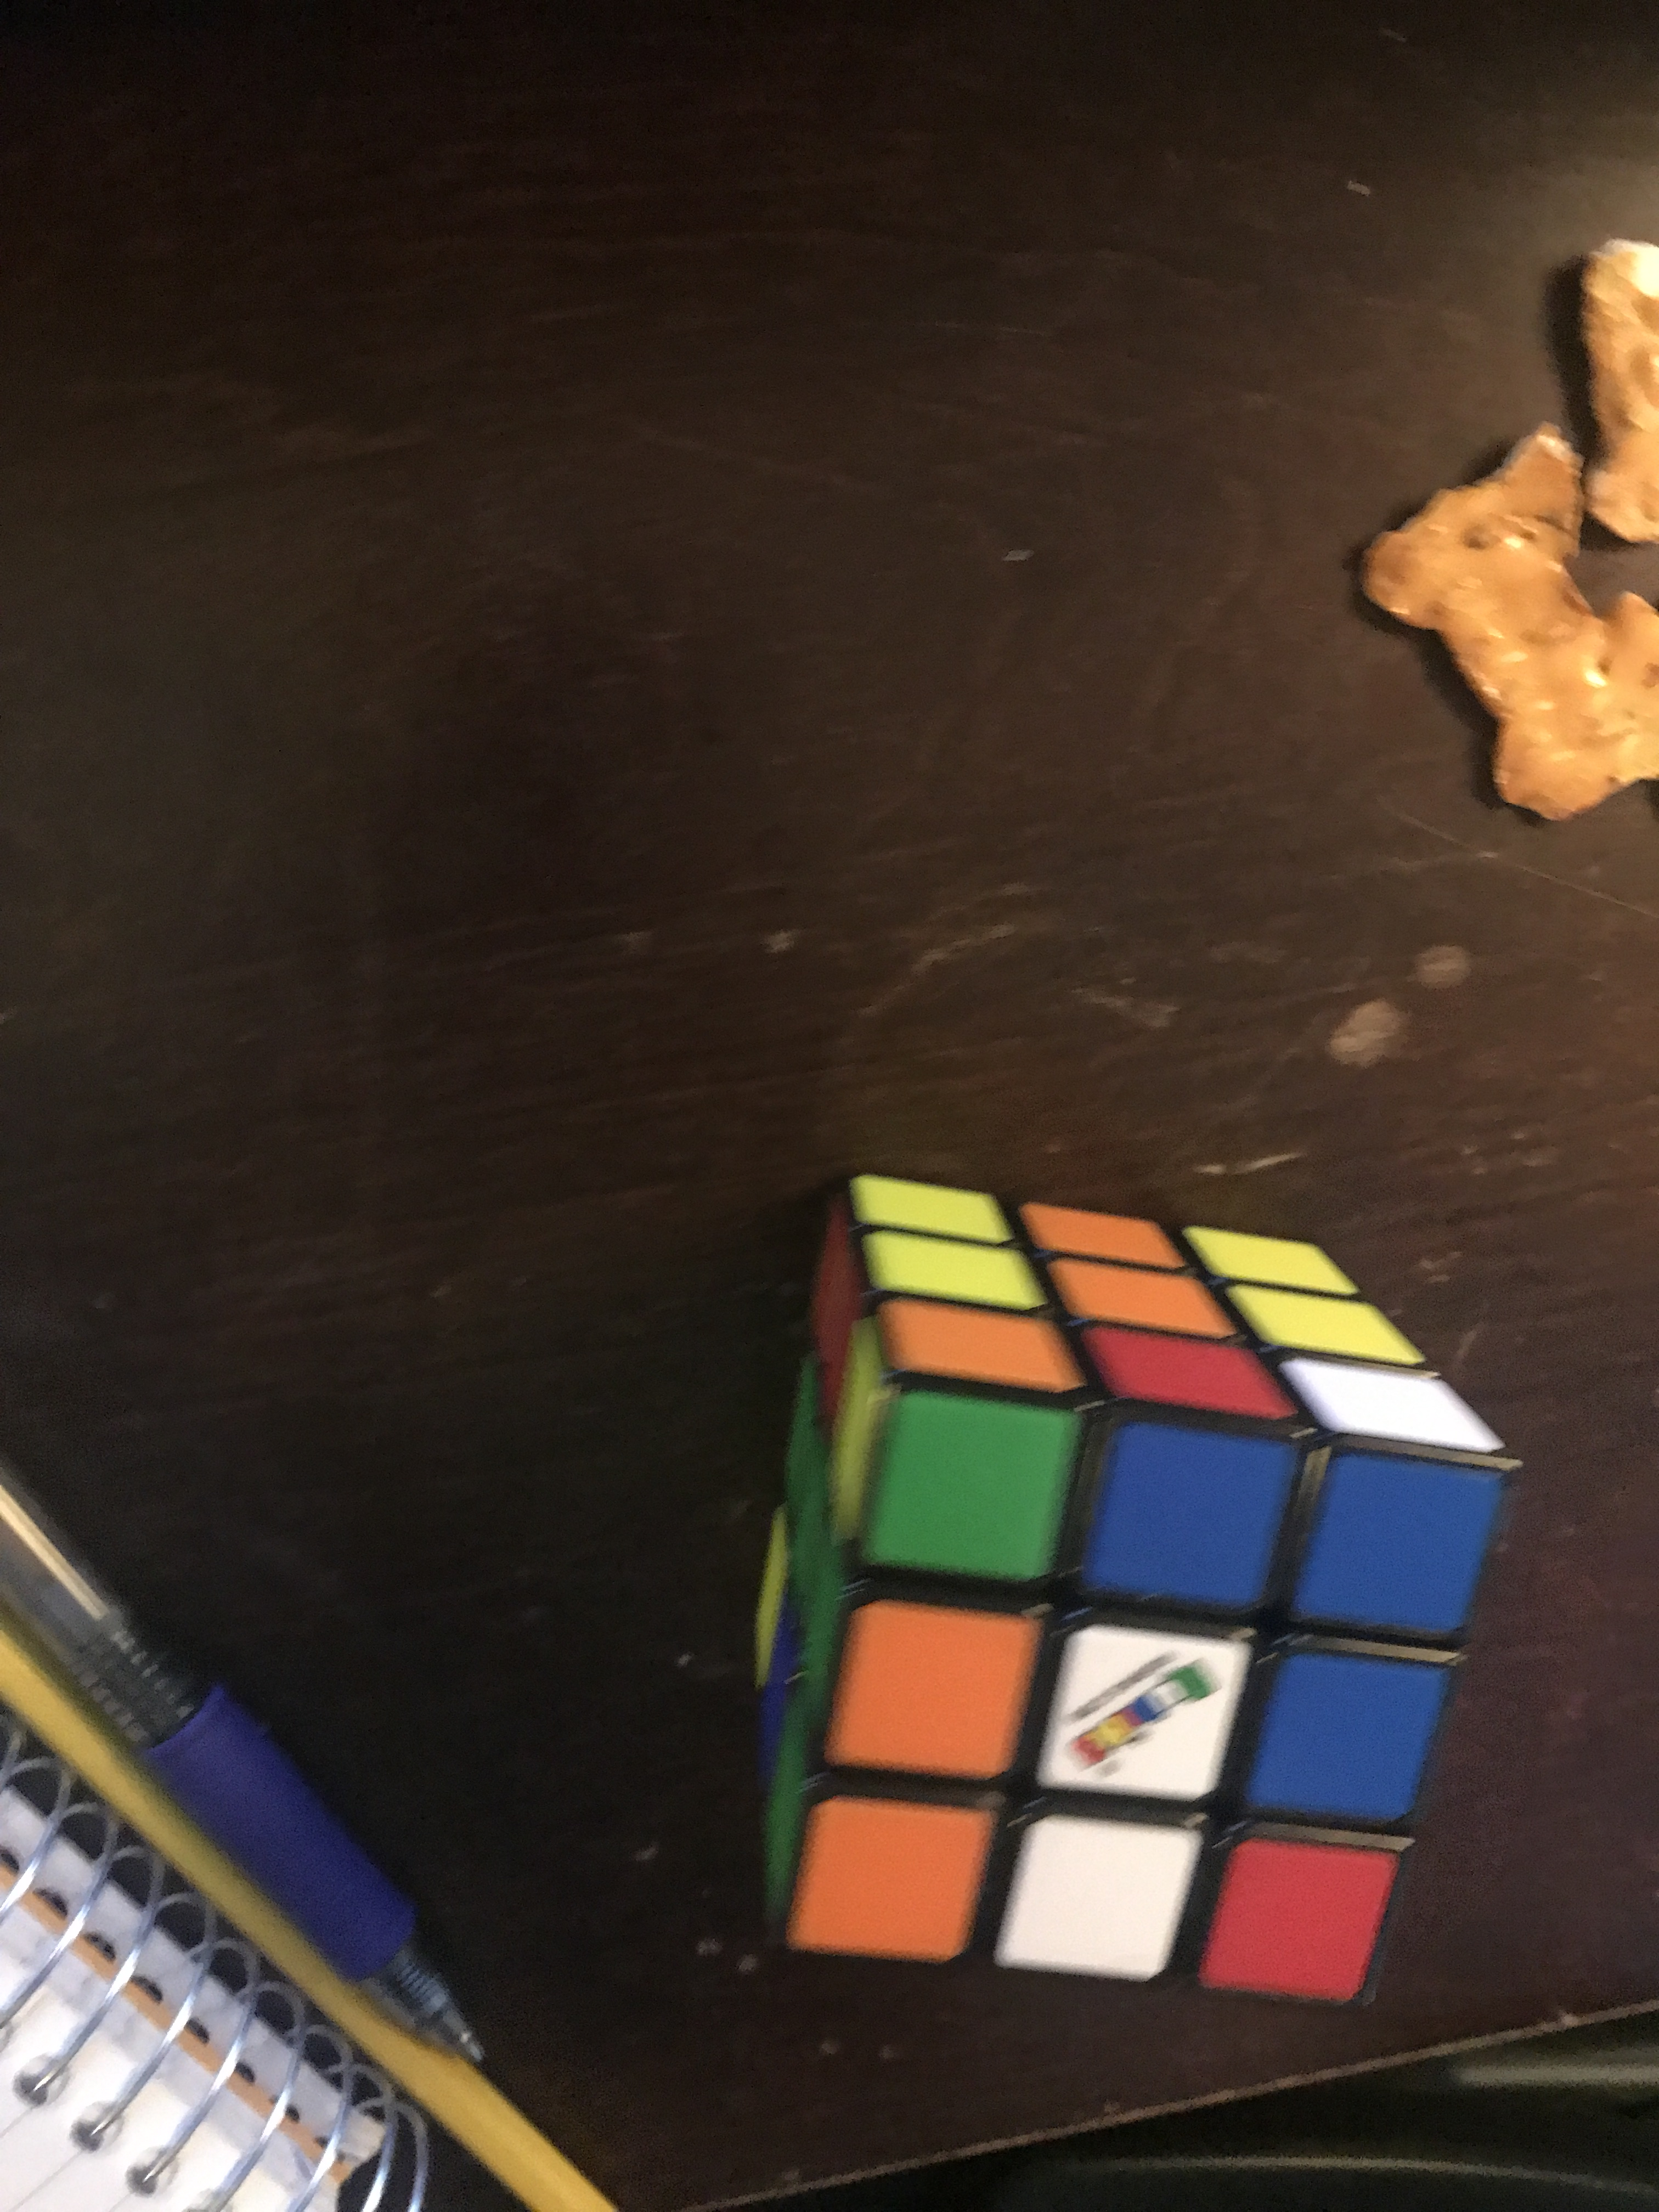rubiks: (734, 1146, 1518, 2003)
